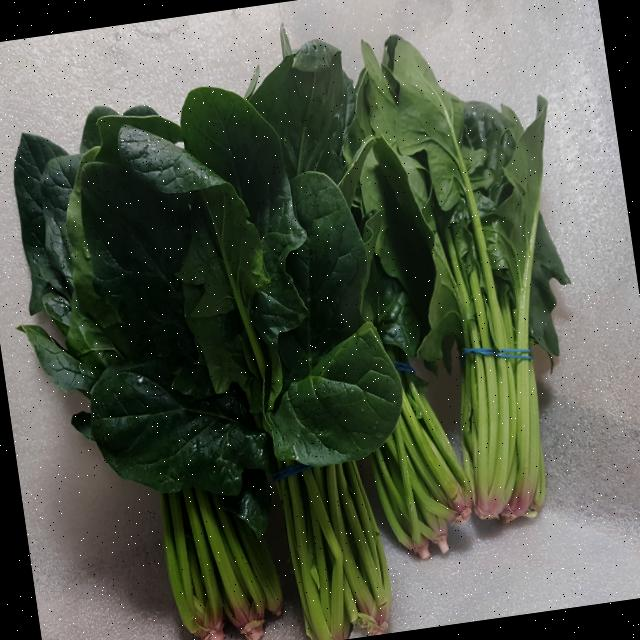spinach: (0, 0, 627, 640), (97, 55, 428, 640)
